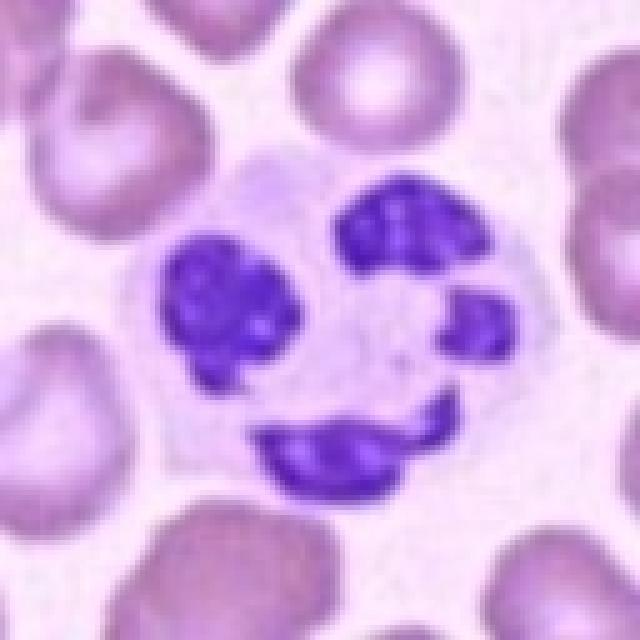neutro: (63, 116, 510, 497)
